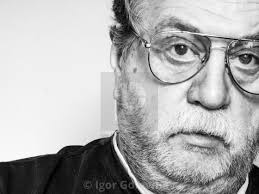white_male: (118, 10, 259, 165)
